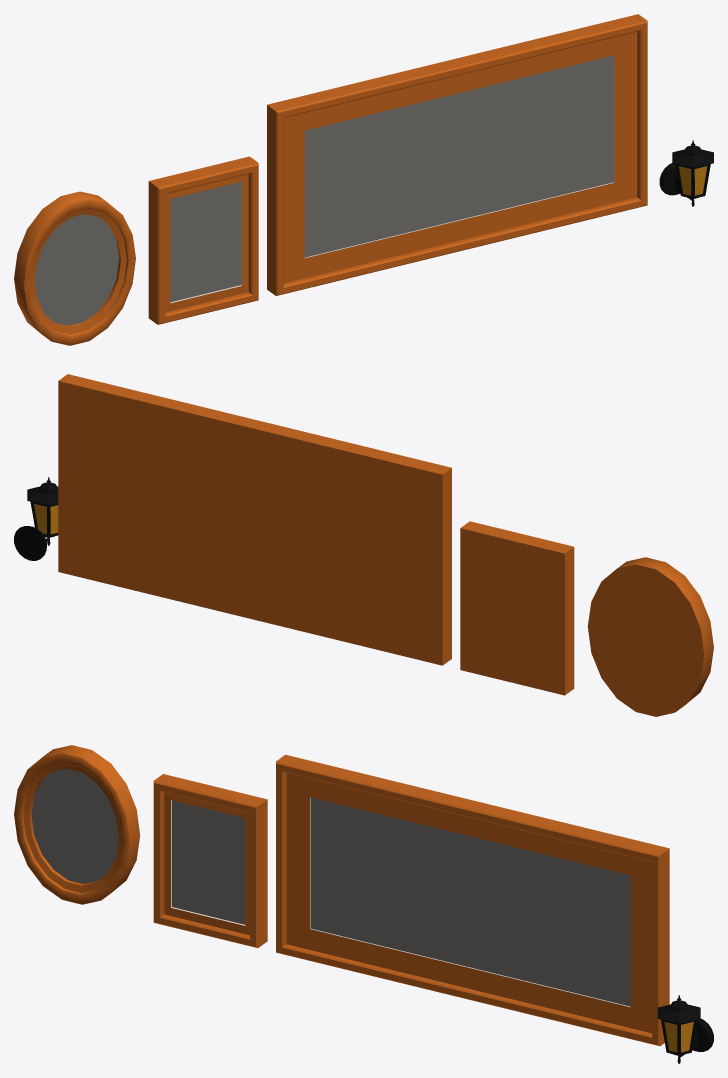
Rendered from Props 2.fbx.
3 renders of one model, top to bottom at view 1: azimuth 30°, elevation 25°; view 2: azimuth 150°, elevation 25°; view 3: azimuth 330°, elevation 25°, orthographic. The views are drawn at different scales.
Parts seen in each view (by area): view 1: Landscape Frame, Portrait Frame, Oval Frame, Lamp; view 2: Landscape Frame, Portrait Frame, Oval Frame, Lamp; view 3: Landscape Frame, Portrait Frame, Oval Frame, Lamp.
Part boxes in pixels (x1,y1,x2,y2): Landscape Frame: [267, 14, 647, 295]; Portrait Frame: [148, 156, 258, 324]; Oval Frame: [14, 191, 135, 345]; Lamp: [659, 140, 713, 206]; Landscape Frame: [58, 374, 451, 665]; Portrait Frame: [460, 521, 574, 695]; Oval Frame: [587, 557, 713, 716]; Lamp: [14, 477, 58, 560]; Landscape Frame: [276, 754, 669, 1046]; Portrait Frame: [153, 774, 267, 947]; Oval Frame: [14, 745, 140, 904]; Lamp: [657, 995, 713, 1063].
Bounding box in the file's own units: 4.04 × 1.05 × 0.3427.
